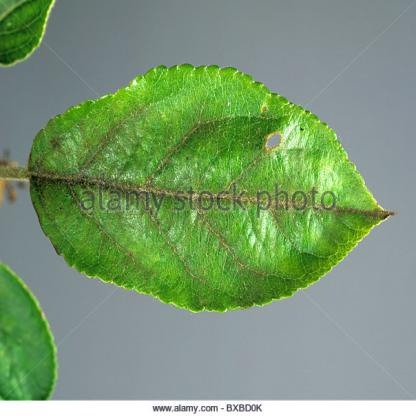Apple Scab Leaf: (28, 53, 397, 311)
